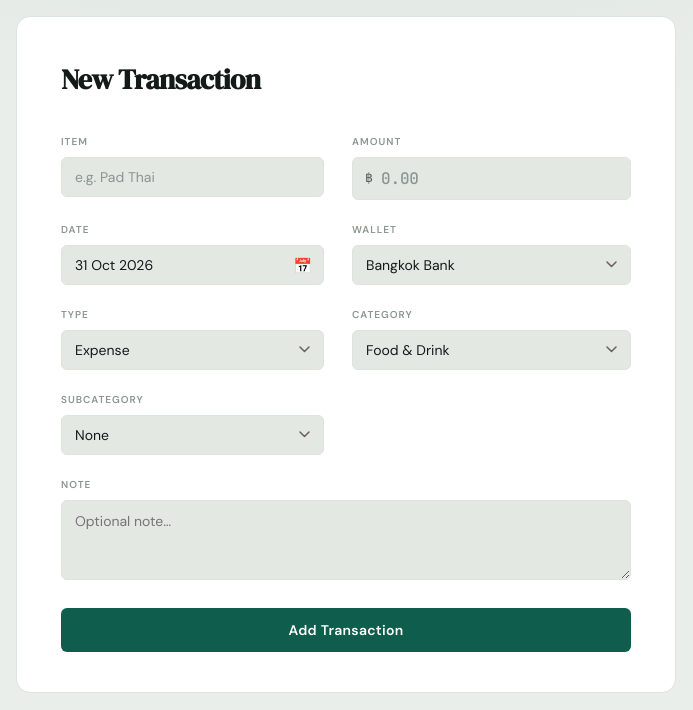
it: shows Rp symbol when switching to an IDR wallet
Select "BCA Account" in the dropdown labelled "Wallet" at (492, 265), box 352,245 -> 631,285
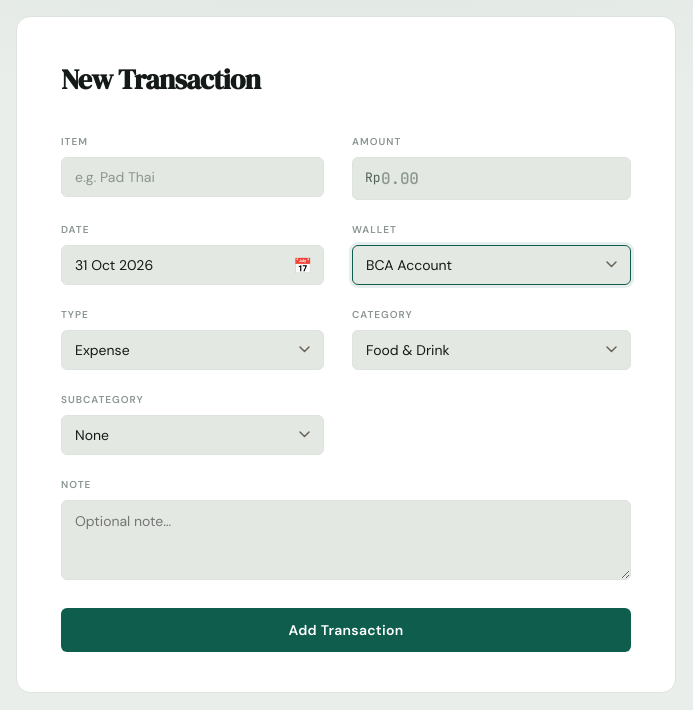
expect the text "Rp" is shown: met, box 365,168 -> 381,189
